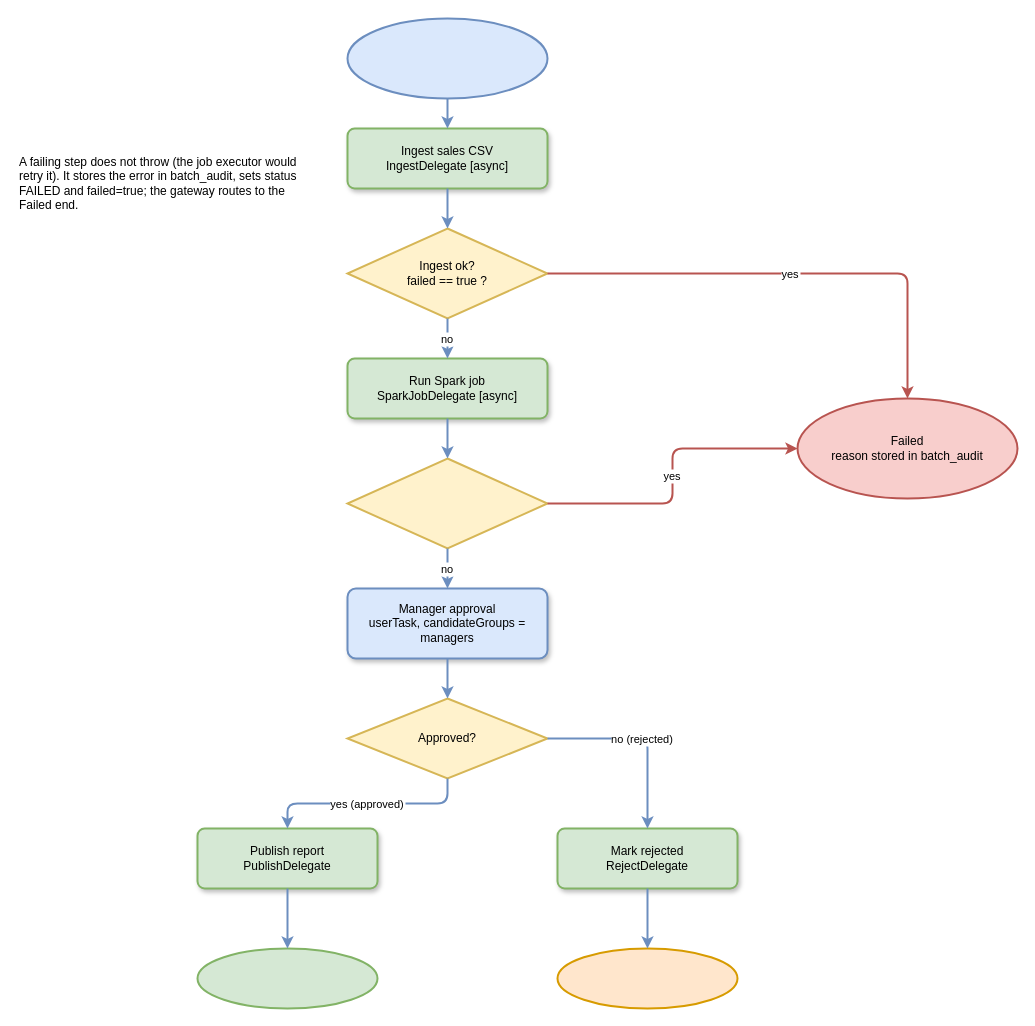
The diagram is 1035 pixels wide and 1026 high, and some of its shapes have lost their labels. The shapes that lost their labels are listed below. From the top down, each one's centre as x and y in pixels, then its label:
At (x=447, y=58): "Start AuditStartListener sets QUEUED".
At (x=447, y=503): "Spark ok? failed == true ?".
At (x=287, y=978): "Completed".
At (x=647, y=978): "Rejected".
